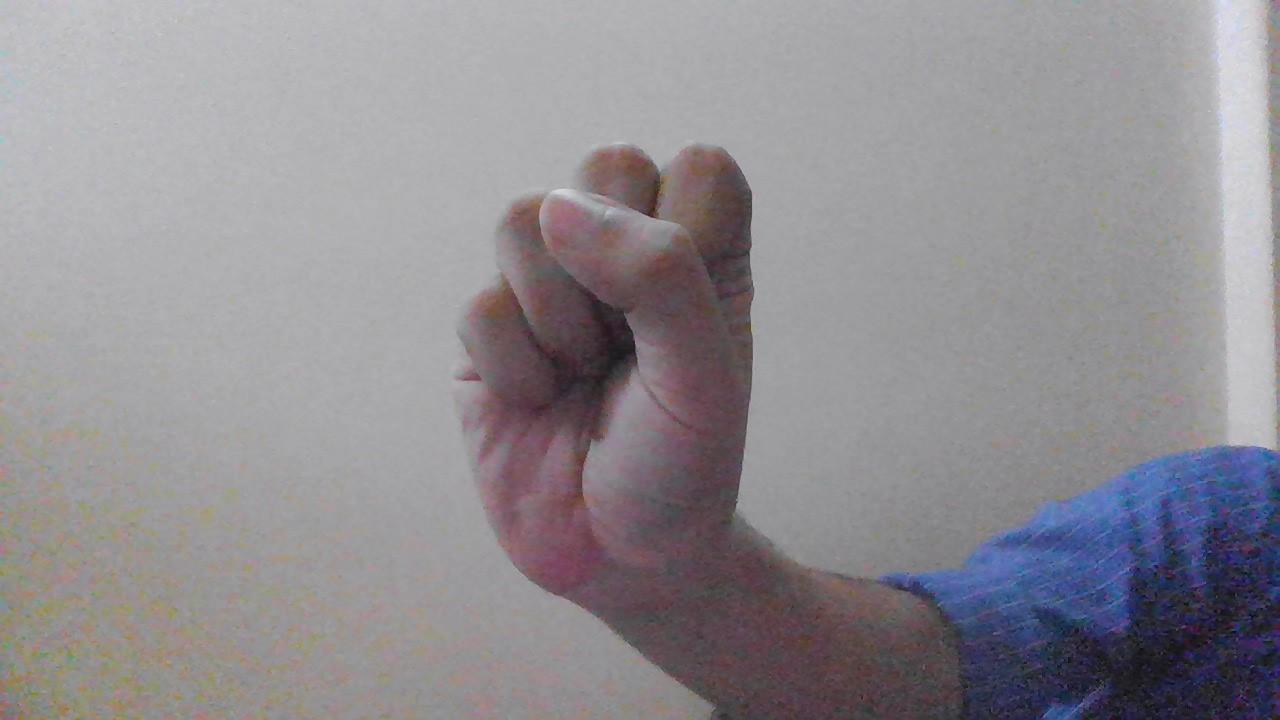S: (450, 139, 774, 601)
